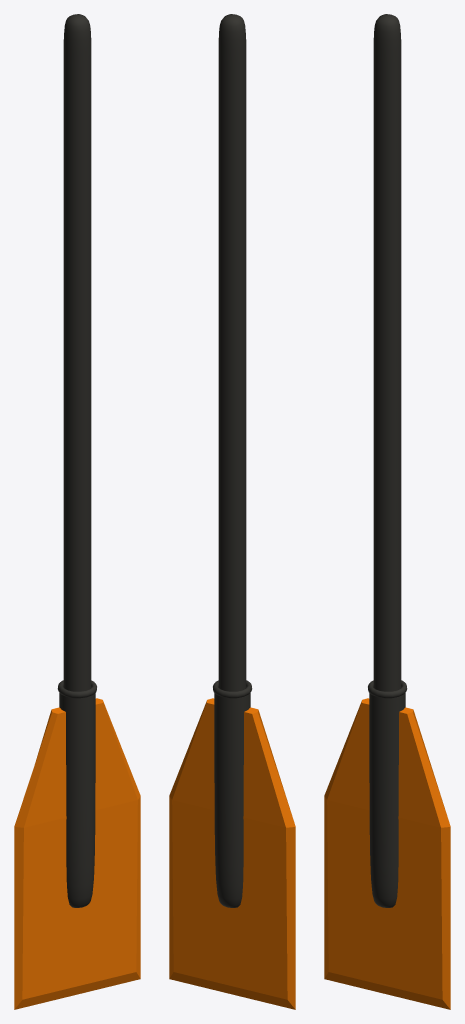
The model's file is DayungPerahuOrange.fbx.
3 renders of one model, left to right at view 1: azimuth 30°, elevation 25°; view 2: azimuth 150°, elevation 25°; view 3: azimuth 330°, elevation 25°, orthographic.
Parts seen in each view (by area): view 1: DayungPerahu; view 2: DayungPerahu; view 3: DayungPerahu.
Boxes of the visible parts, x1,y1,x2,y2 form: DayungPerahu: (14, 14, 140, 1009); DayungPerahu: (169, 14, 295, 1009); DayungPerahu: (324, 14, 450, 1009).
Size of the model in its own units: 26.4 by 195 by 7.14.
1 material, 1 textured.
